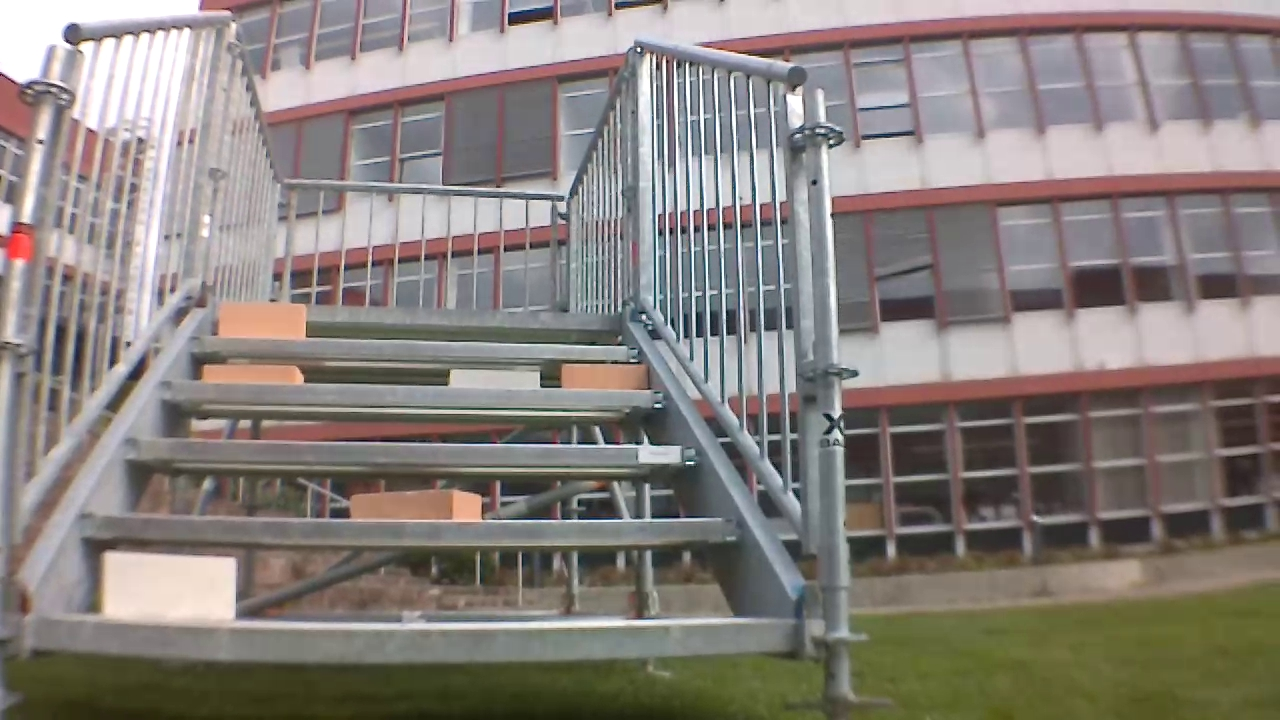brick: (98, 551, 239, 617), (347, 486, 490, 522), (209, 302, 312, 335), (560, 362, 650, 390), (198, 360, 301, 382), (451, 369, 541, 387)
edge: (25, 612, 797, 655), (75, 513, 737, 540), (117, 438, 703, 464), (153, 384, 672, 411), (185, 335, 640, 364), (186, 309, 621, 326)
stairs: (0, 0, 835, 703)
steps: (12, 308, 800, 651)
